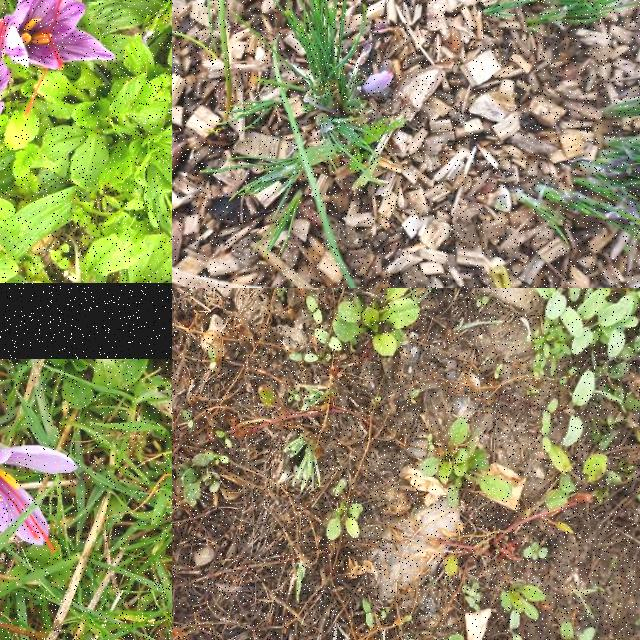flower: (7, 0, 114, 116), (0, 446, 78, 552), (362, 70, 394, 100)
